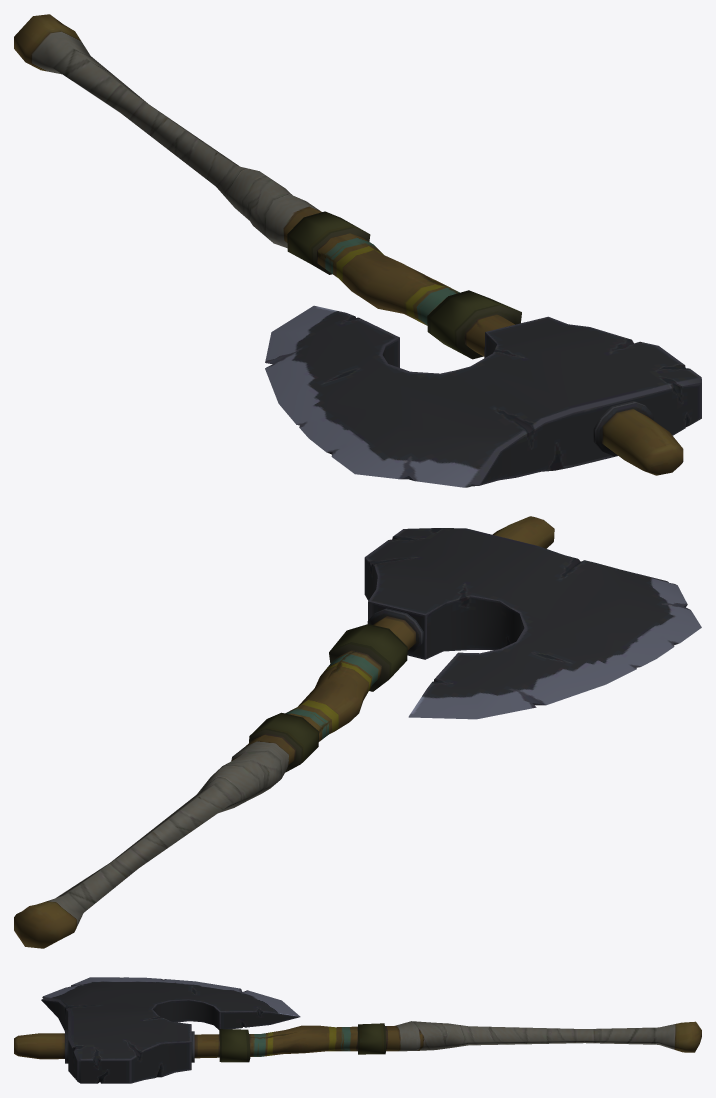
The model's file is Weapon_Lsword_032.glb.
3 renders of one model, top to bottom at view 1: azimuth 30°, elevation 25°; view 2: azimuth 150°, elevation 25°; view 3: azimuth 270°, elevation 25°, orthographic. The views are drawn at different scales.
Visible parts, largest first — view 1: Weapon_Lsword_032; view 2: Weapon_Lsword_032; view 3: Weapon_Lsword_032.
Part boxes in pixels (box(x1,y1,x2,y2)): Weapon_Lsword_032: box(14, 14, 701, 487); Weapon_Lsword_032: box(14, 516, 701, 948); Weapon_Lsword_032: box(14, 977, 701, 1083).
Size of the model in its own units: 0.5276 by 0.0883 by 1.62.
1 material, 1 textured.
